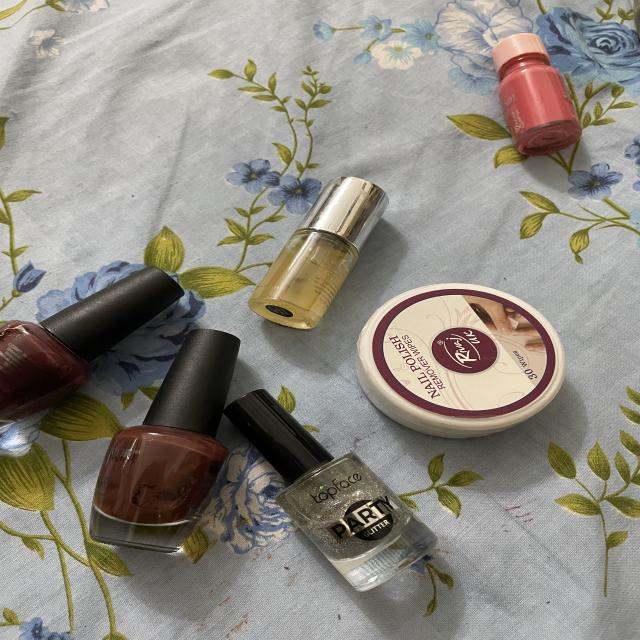Tint: (472, 24, 596, 166)
nail polish: (192, 382, 450, 594), (75, 317, 244, 559), (0, 248, 195, 423), (234, 167, 403, 335)
nail polish remover: (350, 278, 576, 443)
